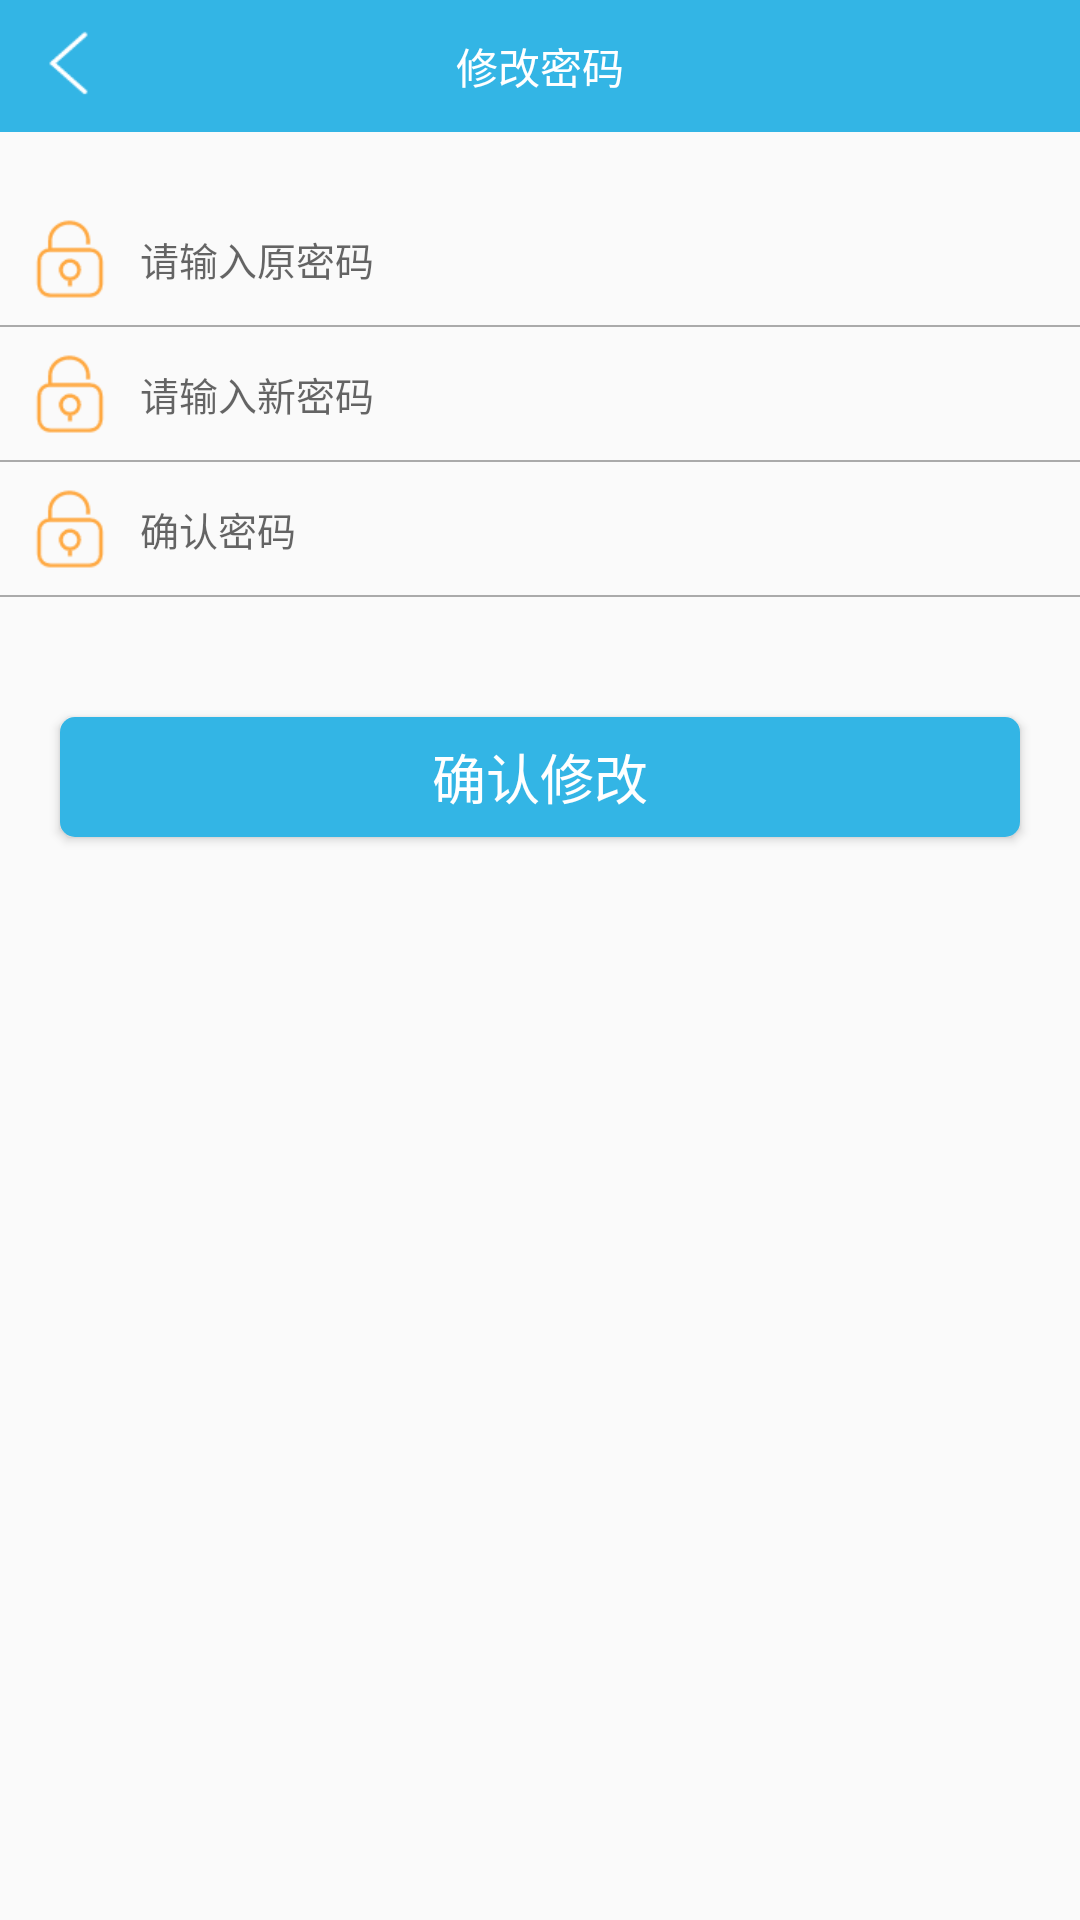

Icon click points for this 1080*1920 phone screenshot, format (x=x, y=y):
back: (x=68, y=63)
password: (x=70, y=259), (x=70, y=394), (x=70, y=529)
